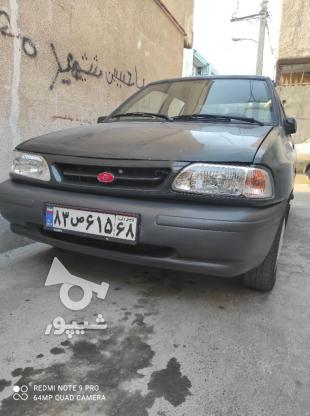car: (44, 201, 139, 245)
